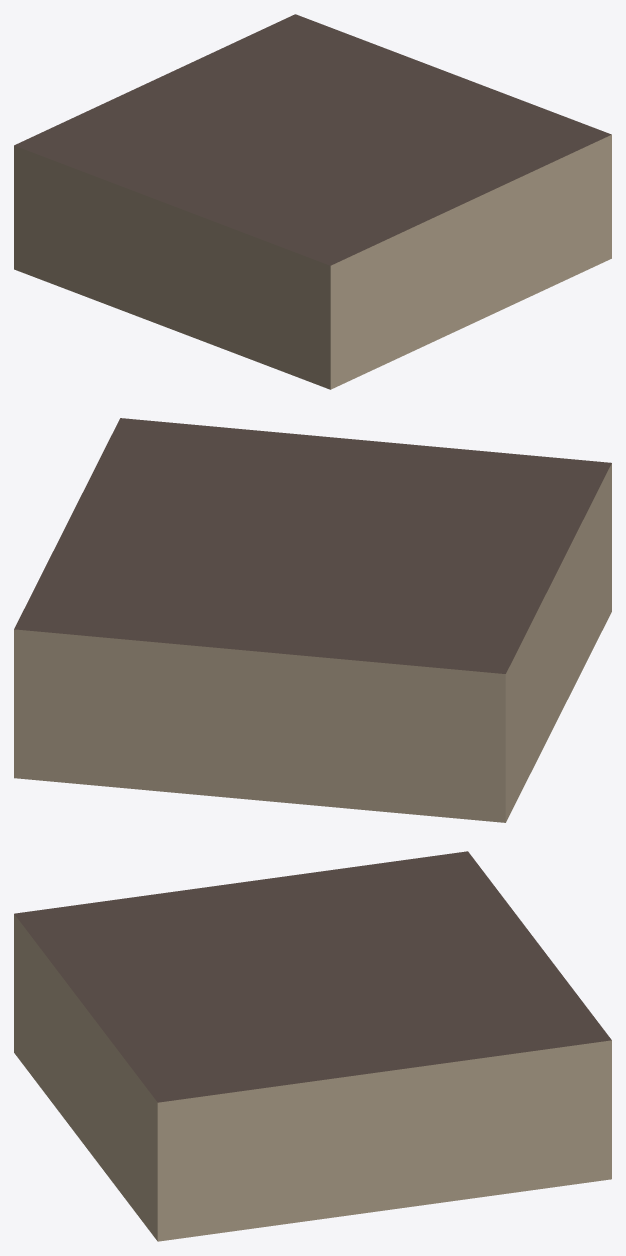
3 renders of one model, top to bottom at view 1: azimuth 30°, elevation 25°; view 2: azimuth 150°, elevation 25°; view 3: azimuth 270°, elevation 25°, orthographic. The views are drawn at different scales.
Parts seen in each view (by area): view 1: HP-w372180472; view 2: HP-w372180472; view 3: HP-w372180472.
Boxes of the visible parts, x1,y1,x2,y2 form: HP-w372180472: [14, 14, 611, 389]; HP-w372180472: [14, 418, 611, 822]; HP-w372180472: [14, 851, 611, 1241].
Size of the model in its own units: 34.91 by 9 by 35.09.
